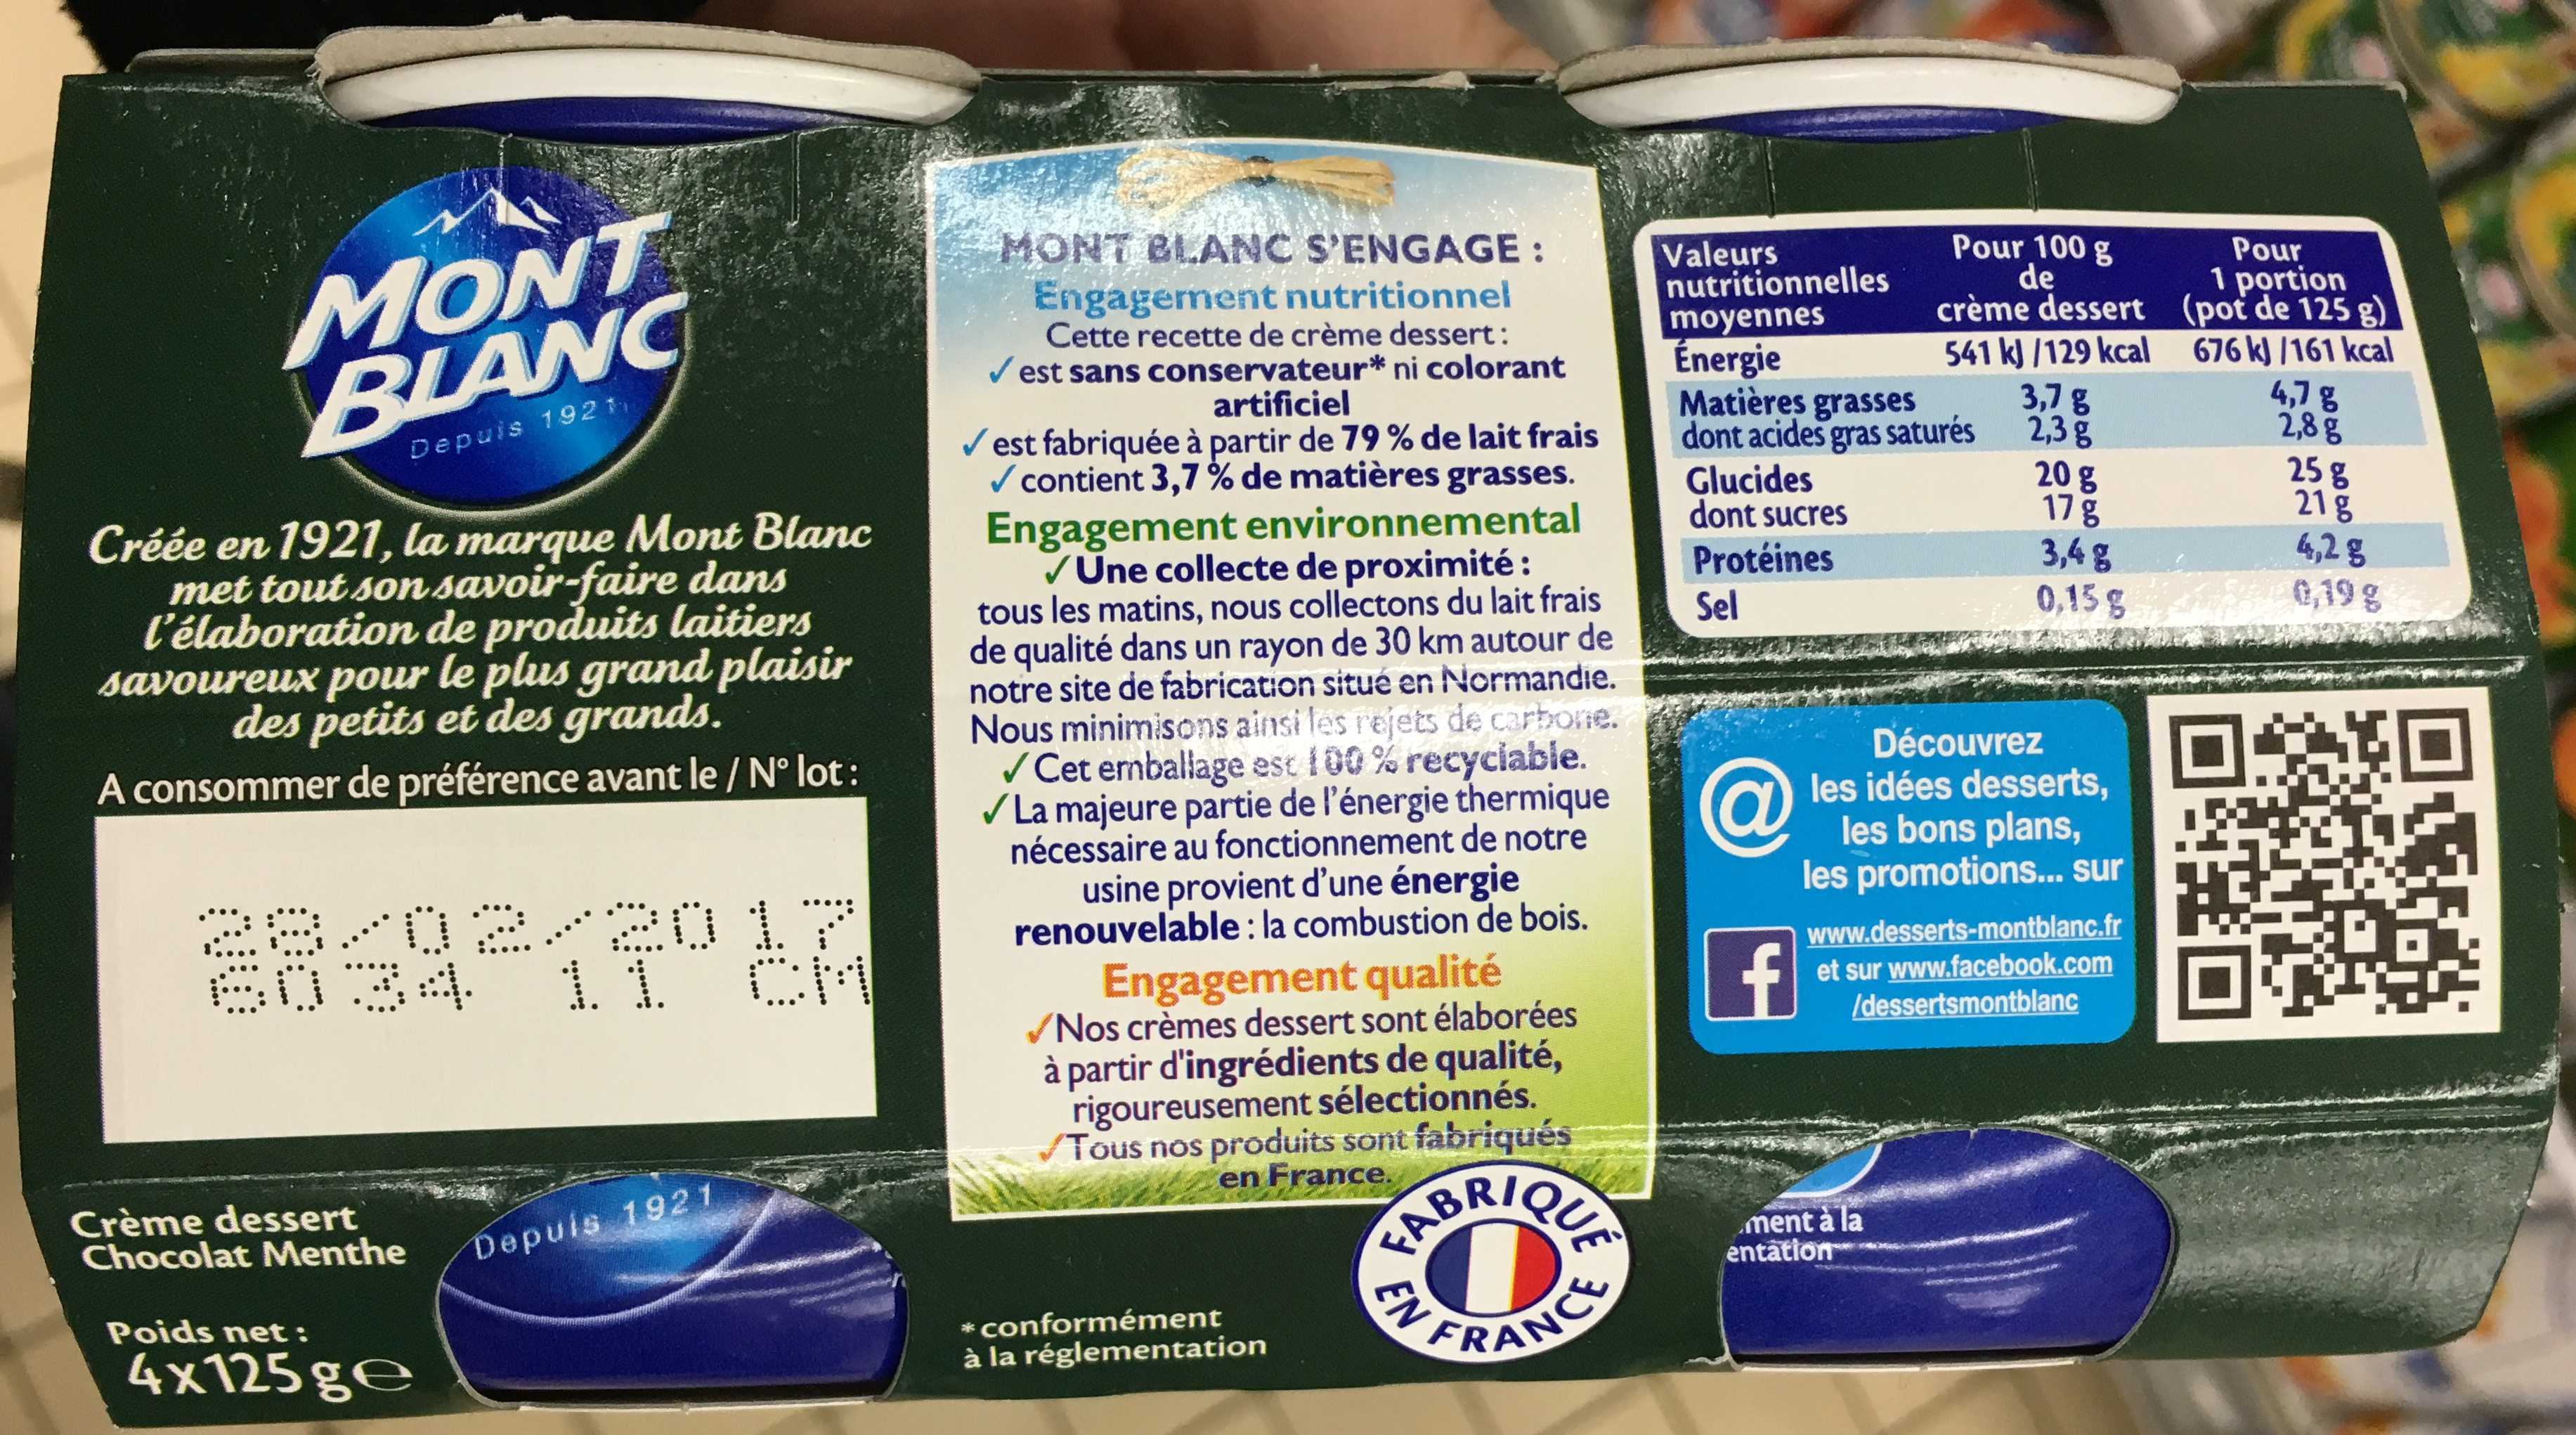column: (1657, 237, 1931, 617), (1936, 232, 2154, 619), (2177, 235, 2398, 615)
table: (1652, 217, 2443, 638)
